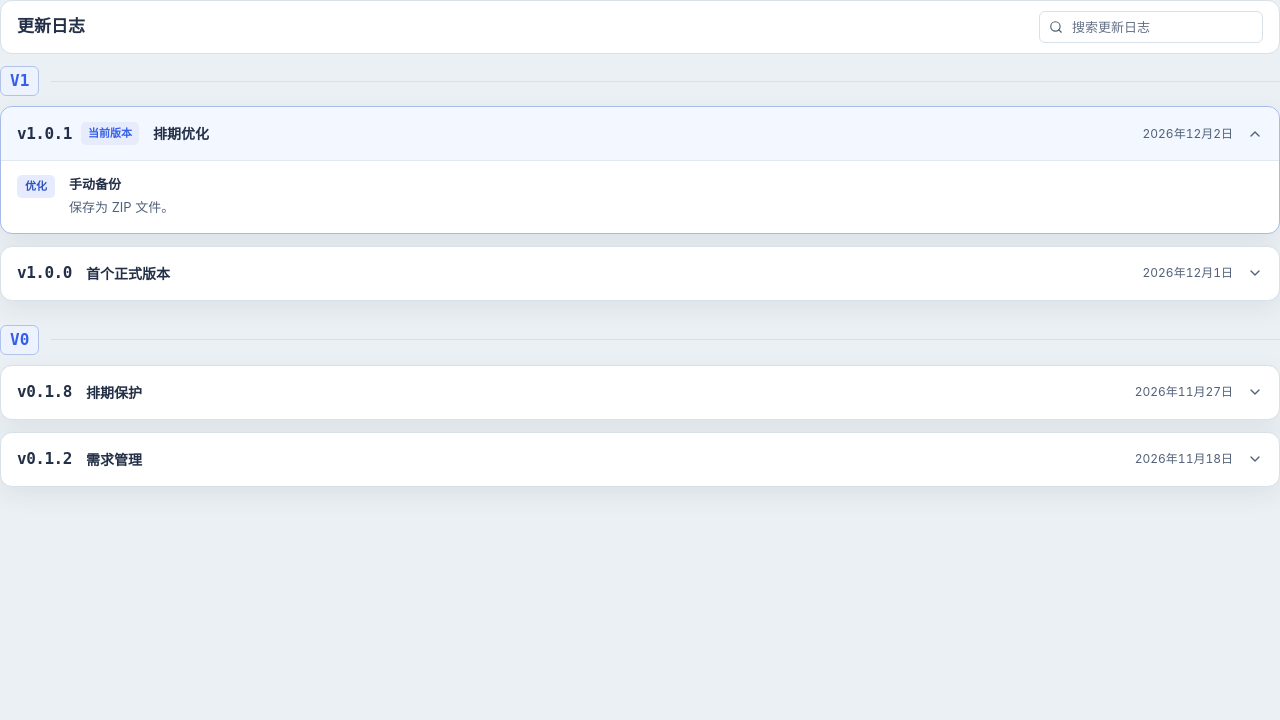
Test: 按条目标题和说明过滤并展开命中的版本
Type "ｚｉｐ 备份" into the search field labelled "搜索更新日志" at (1151, 27), box [1039, 11, 1263, 43]
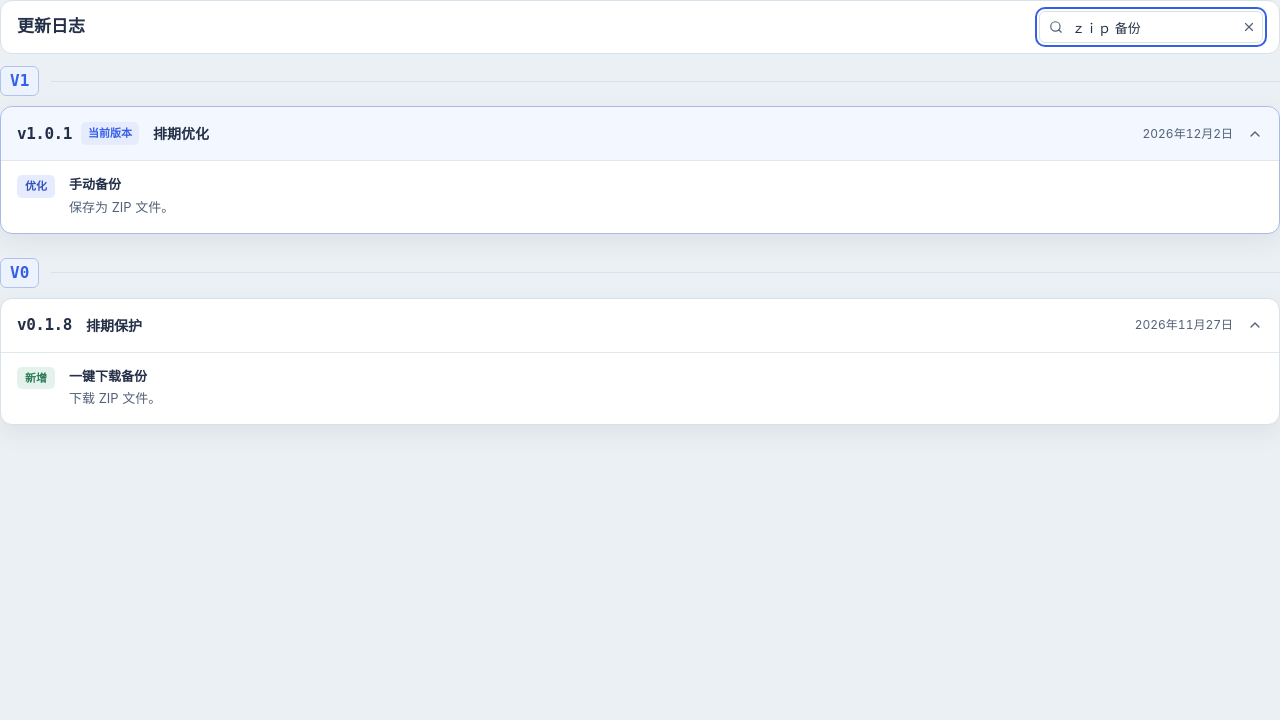
Check: the text "一键下载备份" is shown, box [69, 368, 147, 384]
Check: the heading "v1.0.0" is gone
Check: the heading "v0.1.2" is gone
Replace the text in the search field named "搜索更新日志" with "级联排序" at (1151, 27), box [1039, 11, 1263, 43]
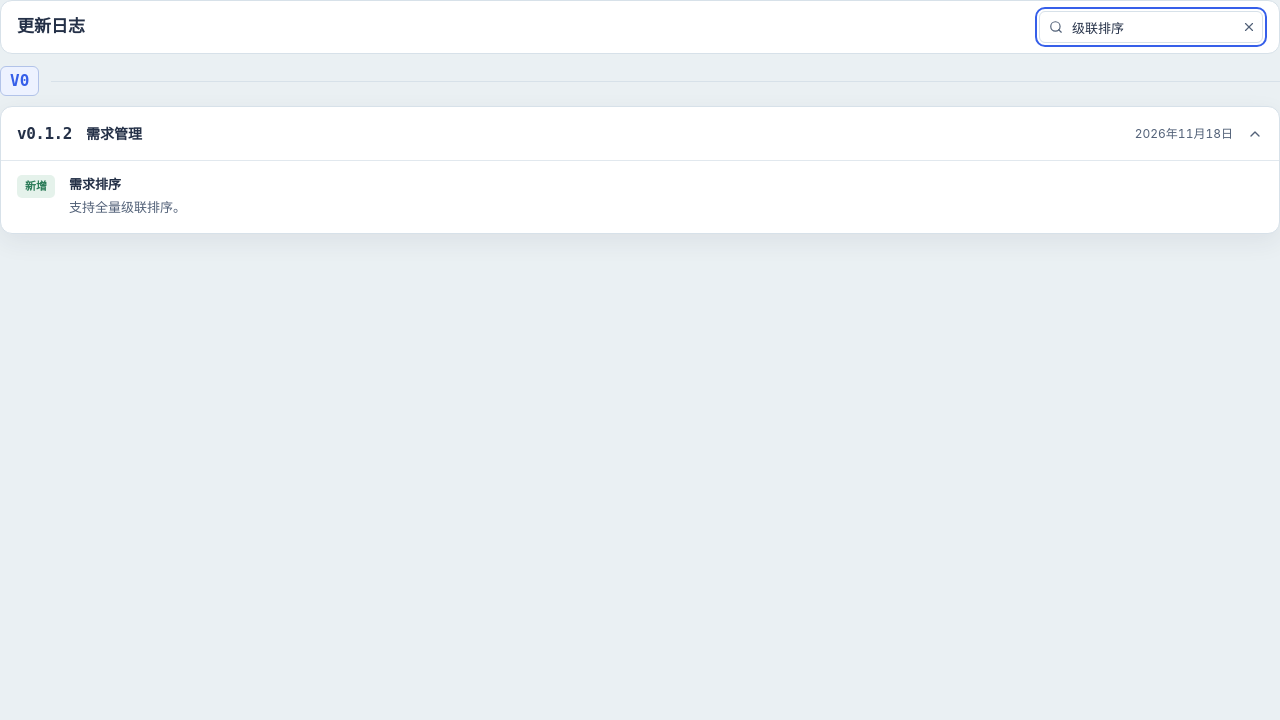
Check: the text "需求排序" is shown, box [69, 176, 121, 192]
Check: the text "V1" is gone
